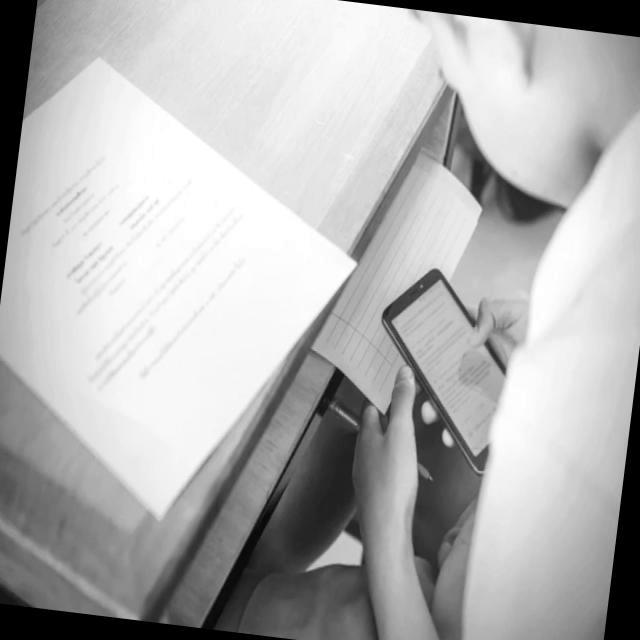phone: (362, 260, 519, 477)
